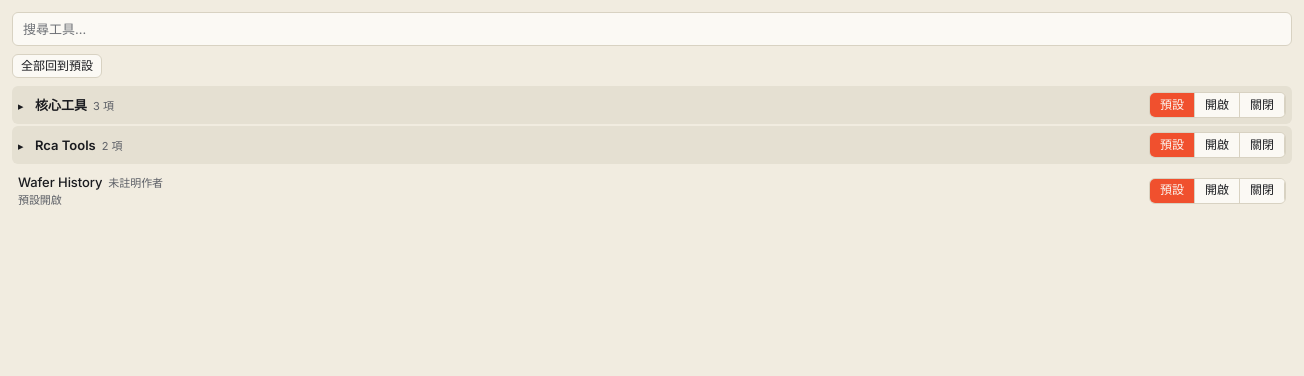
it: ToolsChecklist folds rows by group › opens collapsed: a fold's rows appear only once its header is pressed
Click the button with test id "tool-group-header-builtin". click: [61, 105]
box: [18, 95, 1139, 115]
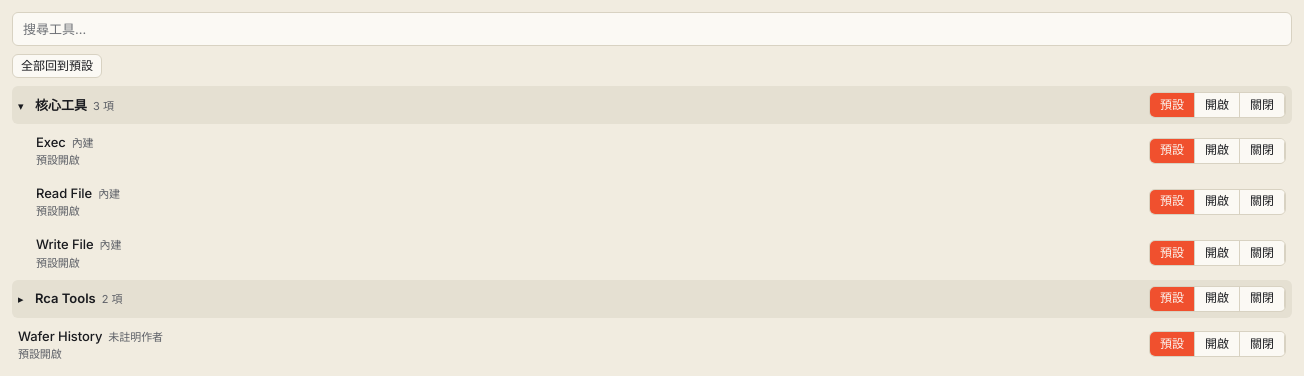
Now the element with test id "tool-row-exec" is shown, box [12, 126, 1292, 175]
Now the button with test id "tool-group-header-builtin" is expanded, box [18, 95, 1139, 115]
